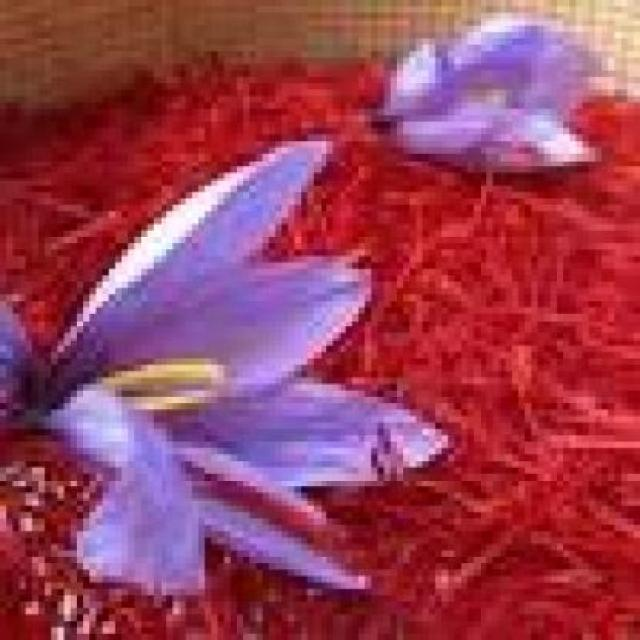Flower: (34, 138, 448, 596), (384, 28, 588, 165)
